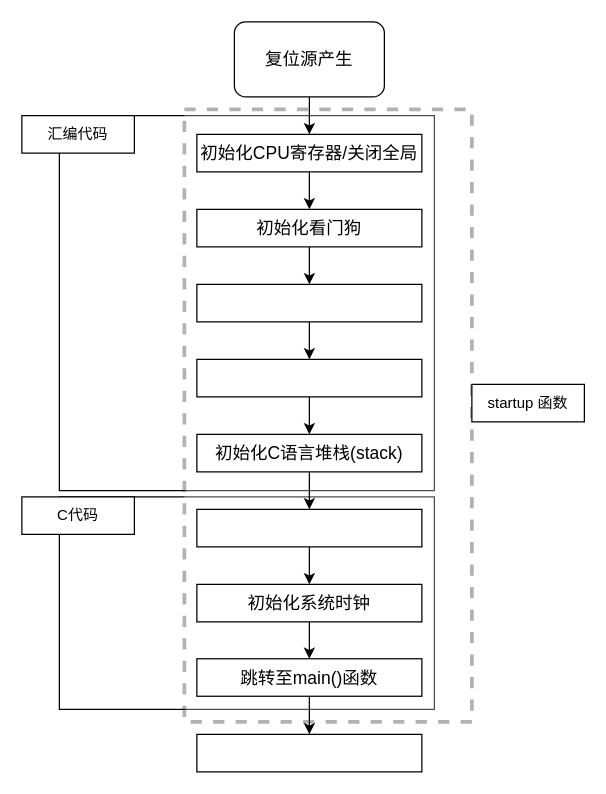
The diagram is 606 pixels wide and 794 high, and some of its shapes have lost their labels. Each missing label, with the box of its shape:
main()函数和用户代: (196, 733, 422, 772)
初始化 RAM ECC: (196, 283, 422, 322)
初始化RAM(copydown): (196, 508, 422, 547)
配置存储器控制器: (196, 358, 422, 397)
